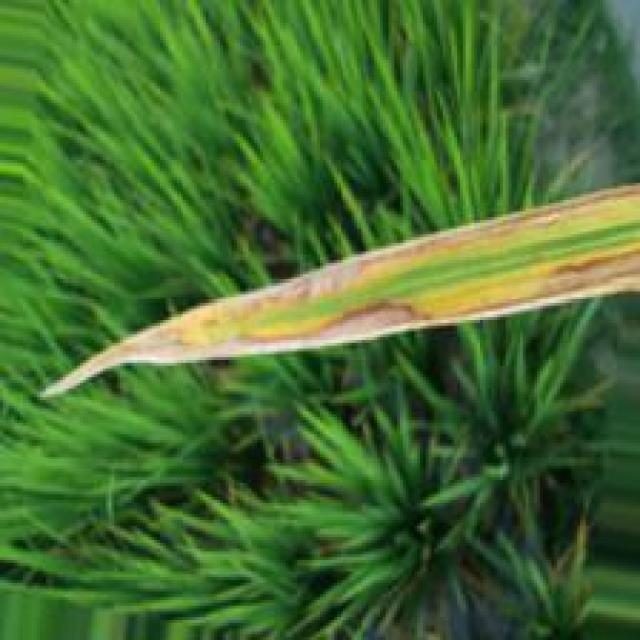Bacterial_Leaf_Blight: (22, 176, 640, 400), (505, 244, 640, 313)
